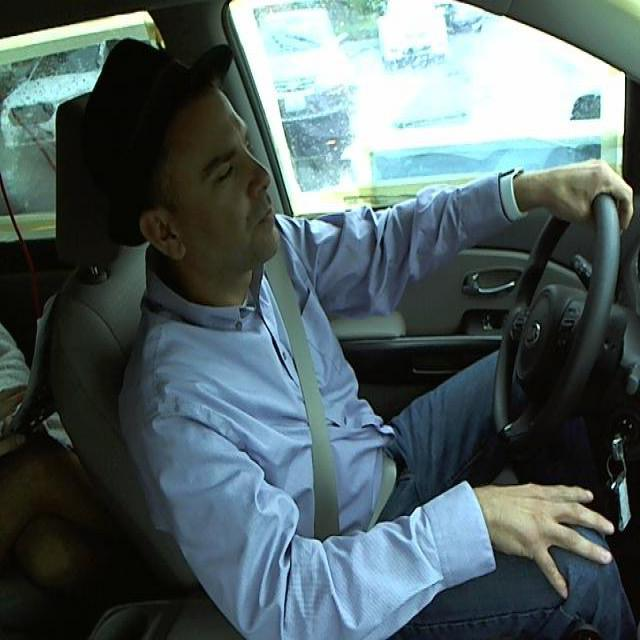seatbelt: (274, 248, 347, 536)
